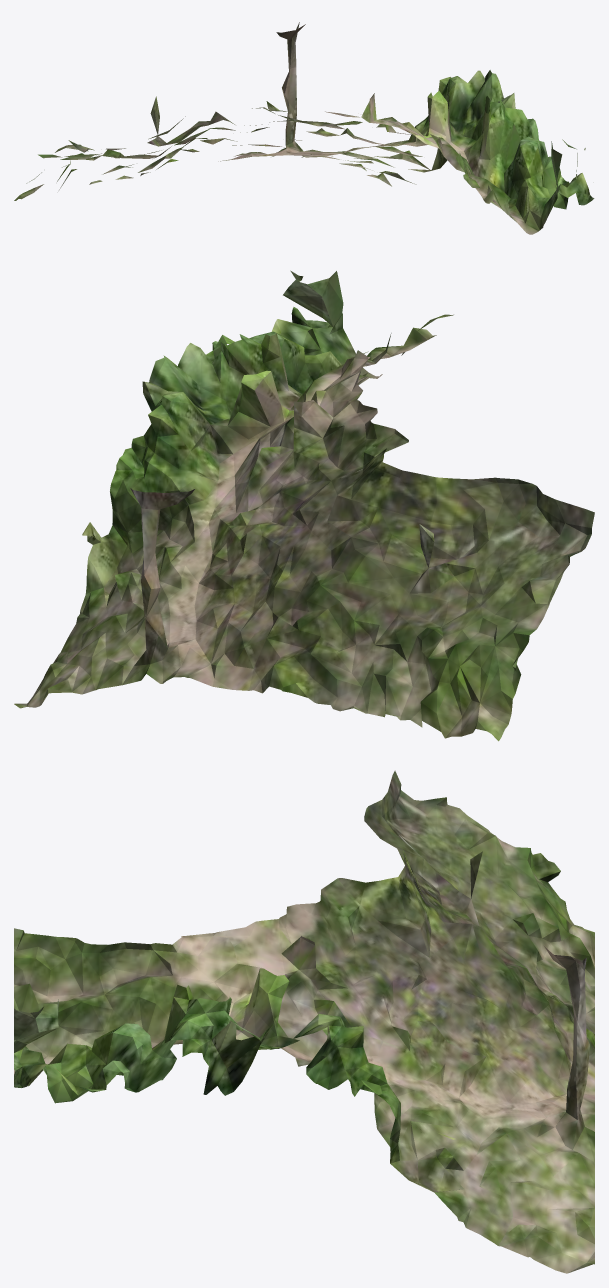
3 renders of one model, top to bottom at view 1: azimuth 30°, elevation 25°; view 2: azimuth 150°, elevation 25°; view 3: azimuth 270°, elevation 25°, orthographic. The views are drawn at different scales.
Size of the model in its own units: 26.11 by 12.8 by 26.11.
3 materials, 3 textured.
